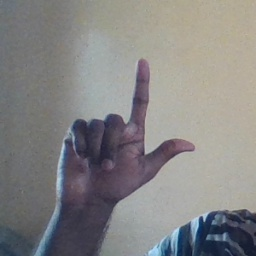L: (56, 55, 197, 209)
